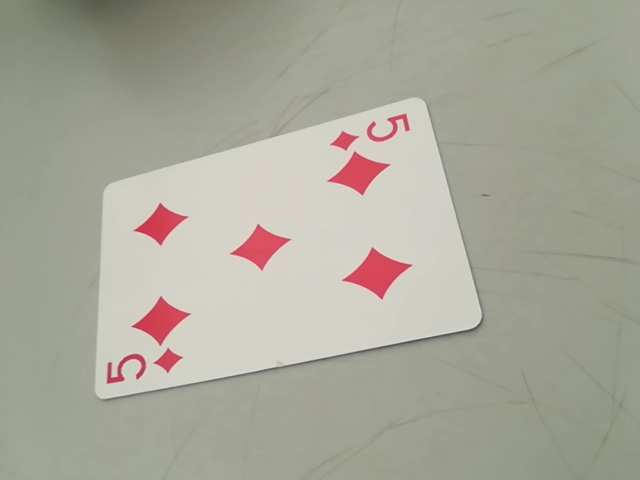fk 5: (101, 343, 189, 395), (326, 111, 415, 151)
